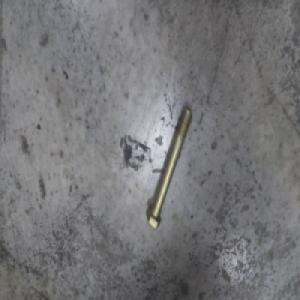Bolt: (146, 110, 192, 231)
